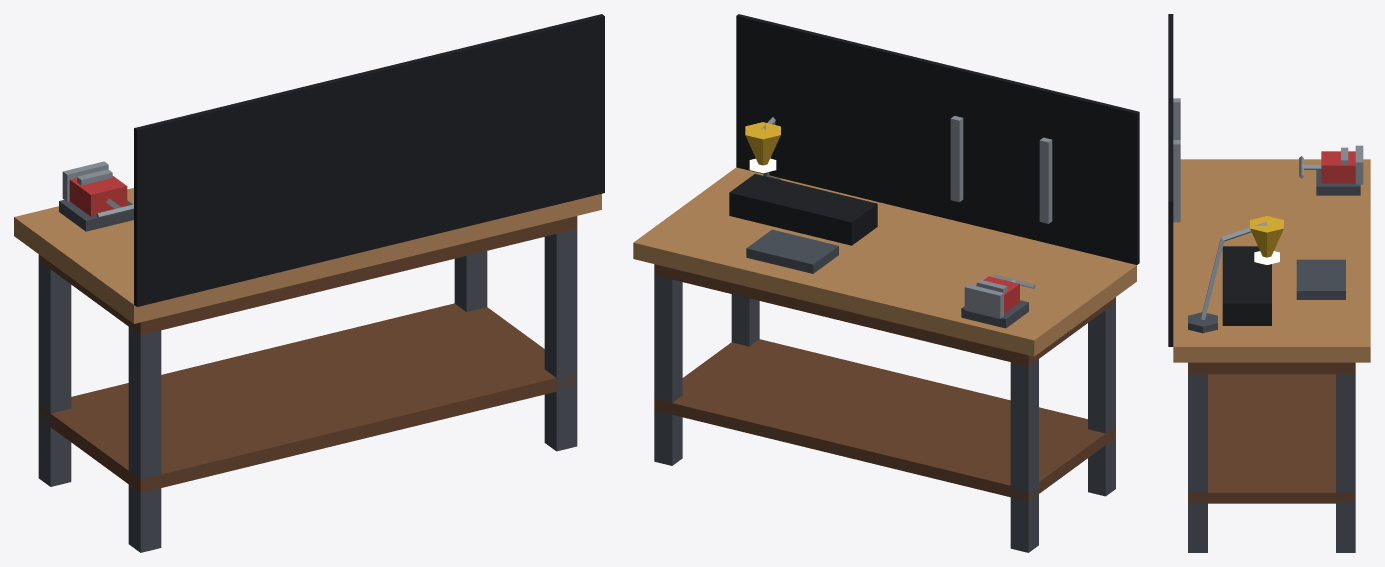
Rendered from gun_bench.glb.
3 views of the same model, side by side, from view 1: azimuth 30°, elevation 25°; view 2: azimuth 150°, elevation 25°; view 3: azimuth 270°, elevation 25° (orthographic). The views are drawn at different scales.
Parts seen in each view (by area): view 1: Body; view 2: Body; view 3: Body.
Part boxes in pixels (x1=…): Body: x1=14, y1=14, x2=604, y2=552; Body: x1=633, y1=14, x2=1139, y2=552; Body: x1=1168, y1=14, x2=1370, y2=552.
Size of the model in its own units: 1.8 by 1.6 by 0.82.
